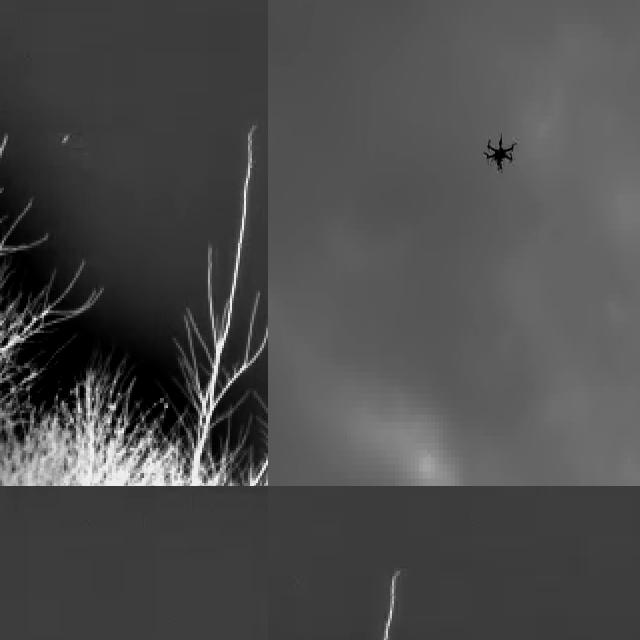0: (50, 124, 82, 157)
drone: (480, 133, 520, 178)
